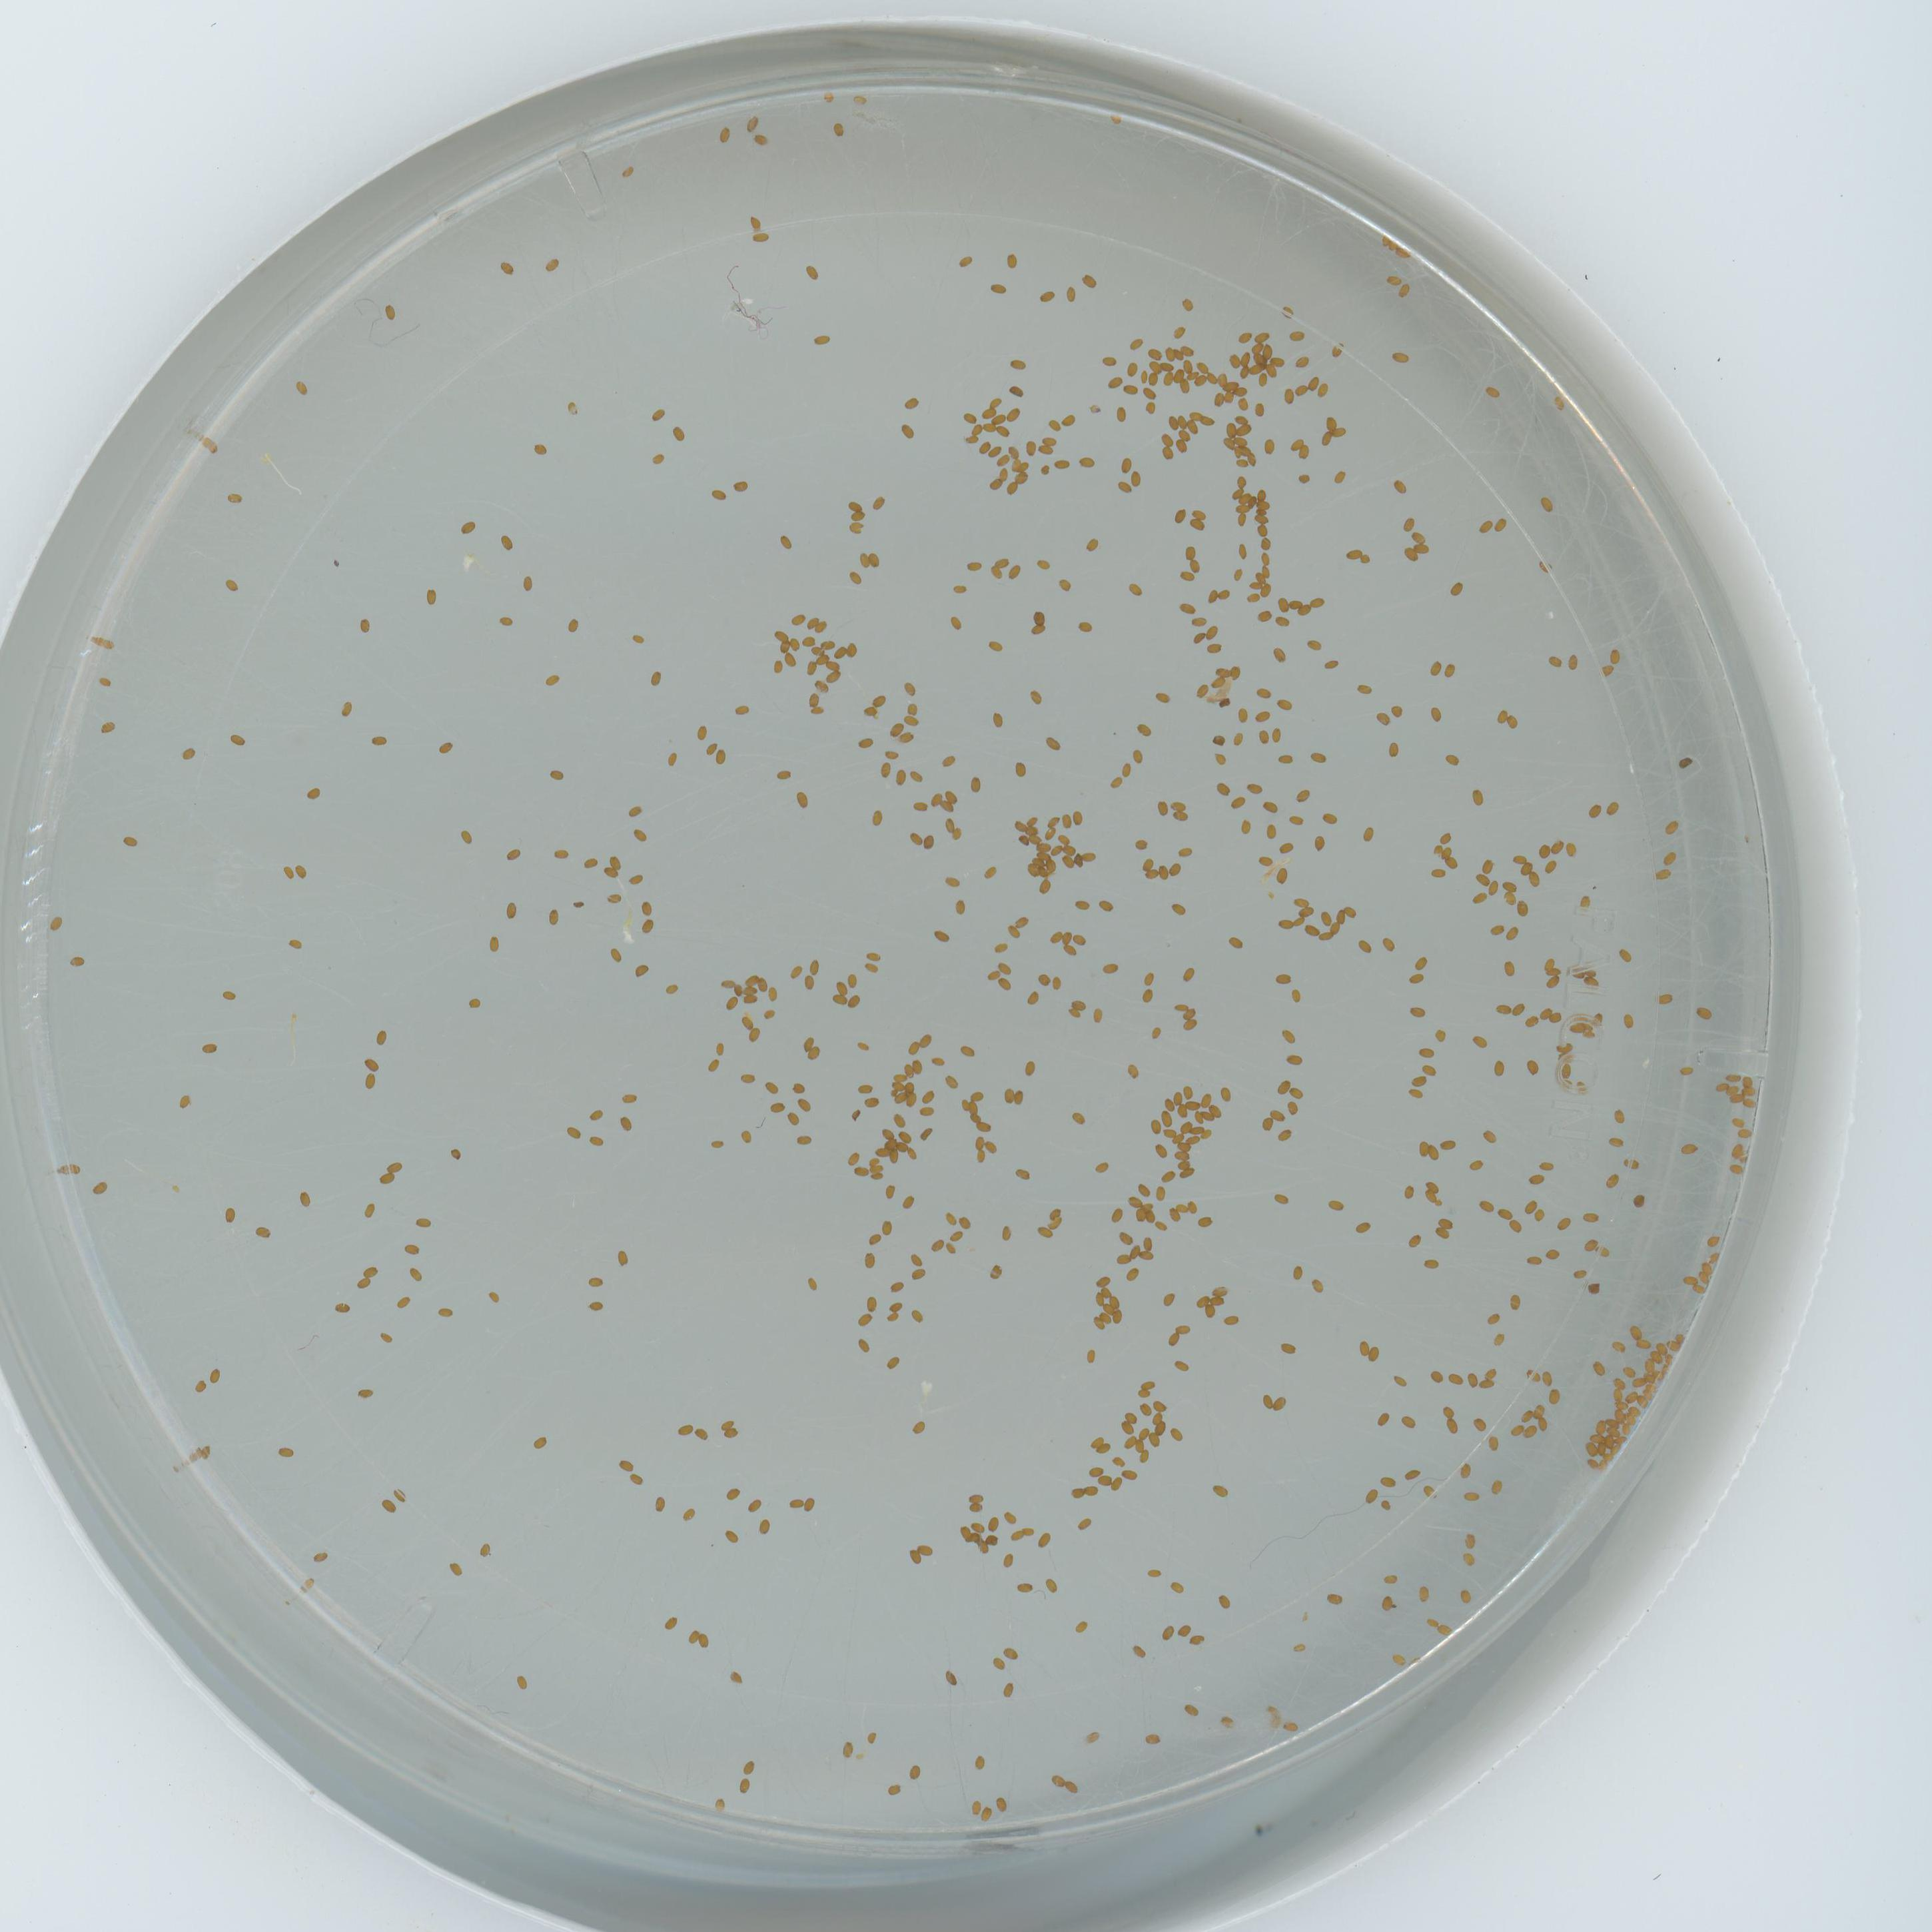seed: (1460, 1552, 1479, 1571), (1483, 384, 1504, 402), (1384, 741, 1403, 759), (1414, 954, 1433, 971), (1362, 1486, 1380, 1506), (1389, 1651, 1407, 1670), (1454, 1589, 1474, 1606), (1460, 1532, 1477, 1552), (1486, 1479, 1506, 1497), (1435, 1622, 1454, 1640), (1290, 1640, 1309, 1658), (1548, 395, 1568, 412), (1177, 600, 1198, 616), (502, 901, 520, 918), (793, 791, 810, 809), (338, 701, 356, 718), (518, 575, 536, 593), (920, 833, 938, 851), (957, 251, 975, 269), (617, 1454, 635, 1472), (205, 1366, 223, 1384), (276, 1442, 294, 1460), (803, 1495, 821, 1513), (379, 1497, 396, 1514), (90, 1177, 108, 1194), (295, 1189, 313, 1207), (1309, 748, 1327, 766), (1111, 405, 1129, 423), (1260, 437, 1277, 455), (1276, 695, 1293, 713), (1042, 734, 1060, 752), (1008, 354, 1026, 372), (1037, 285, 1054, 303), (1391, 347, 1408, 364), (1421, 1060, 1438, 1077), (1378, 1472, 1396, 1490), (1525, 1058, 1543, 1076), (1014, 1162, 1031, 1180), (1490, 1060, 1507, 1077), (1582, 1207, 1599, 1224), (1378, 1594, 1396, 1612), (1500, 959, 1518, 977), (1546, 1387, 1564, 1405), (1414, 1585, 1431, 1603), (1422, 1615, 1440, 1633), (1384, 1571, 1401, 1589), (1729, 1161, 1746, 1178), (1729, 1143, 1746, 1161), (1679, 1062, 1697, 1079), (1591, 1010, 1608, 1028), (1656, 991, 1674, 1008), (954, 1525, 971, 1543), (361, 1056, 380, 1072), (879, 1217, 895, 1237), (253, 1223, 272, 1238), (807, 957, 823, 977), (909, 1306, 925, 1325), (1115, 456, 1134, 472), (998, 1552, 1017, 1568), (1021, 1058, 1037, 1077), (1445, 1369, 1465, 1385), (1085, 1730, 1104, 1746), (1063, 1778, 1083, 1794), (639, 899, 656, 915), (458, 518, 476, 534), (628, 872, 646, 888), (632, 828, 649, 844), (370, 732, 387, 748), (292, 379, 310, 395), (639, 918, 656, 934), (648, 671, 665, 686), (582, 855, 600, 870), (901, 679, 918, 695), (545, 909, 563, 925), (734, 702, 752, 718), (732, 478, 750, 494), (304, 786, 322, 801), (626, 803, 644, 819), (771, 626, 789, 642), (543, 255, 561, 271), (858, 734, 876, 750), (814, 329, 832, 345), (847, 570, 865, 586), (947, 616, 964, 632), (423, 587, 439, 605), (803, 264, 821, 280), (292, 863, 310, 879), (228, 731, 246, 747), (713, 750, 731, 766), (805, 616, 823, 632), (287, 936, 304, 952), (801, 633, 819, 649), (812, 678, 830, 694), (607, 855, 625, 870), (747, 1497, 764, 1513), (886, 1353, 904, 1369), (862, 1251, 879, 1267), (407, 1267, 425, 1283), (918, 1539, 934, 1557), (906, 1764, 924, 1780), (740, 1127, 755, 1145), (724, 1527, 740, 1545), (920, 1088, 936, 1106), (890, 1276, 906, 1293), (757, 1518, 775, 1534), (904, 1039, 922, 1054), (846, 1150, 863, 1166), (333, 1299, 350, 1315), (435, 1302, 453, 1318), (863, 1730, 881, 1746), (221, 1207, 239, 1223), (651, 1495, 669, 1511), (614, 1247, 632, 1263), (770, 1097, 787, 1113), (626, 1470, 644, 1486), (361, 1203, 379, 1219), (892, 1111, 909, 1127), (633, 962, 651, 978), (738, 1776, 754, 1794), (839, 1741, 856, 1757), (1373, 711, 1391, 727), (1254, 607, 1272, 623), (1099, 352, 1116, 368), (1171, 326, 1189, 341), (1095, 897, 1113, 913), (1035, 879, 1053, 895), (1426, 662, 1444, 678), (1007, 382, 1024, 398), (989, 278, 1007, 294), (1077, 453, 1095, 469), (1180, 543, 1198, 559), (1005, 407, 1023, 423), (1224, 934, 1242, 950), (1380, 936, 1398, 952), (1079, 271, 1095, 288), (1322, 656, 1339, 672), (1228, 796, 1246, 812), (1253, 708, 1270, 724), (1514, 901, 1532, 916), (1261, 798, 1277, 816), (1005, 924, 1023, 939), (1359, 826, 1376, 842), (1235, 329, 1253, 345), (1272, 869, 1290, 885), (1244, 780, 1261, 796), (1399, 515, 1417, 531), (966, 777, 984, 793), (1288, 327, 1306, 343), (1106, 372, 1122, 389), (1286, 812, 1304, 828), (1072, 897, 1090, 913), (1208, 674, 1226, 690), (1320, 810, 1338, 826), (1001, 251, 1019, 267), (1237, 817, 1253, 835), (1070, 931, 1088, 947), (1587, 801, 1603, 819), (1270, 646, 1288, 662), (1272, 596, 1290, 612), (1295, 469, 1313, 485), (1293, 787, 1311, 803), (991, 939, 1008, 955), (1327, 343, 1345, 359), (1152, 801, 1169, 817), (1479, 858, 1497, 874), (1200, 412, 1217, 428), (1125, 582, 1143, 598), (1003, 442, 1021, 458), (1028, 609, 1044, 626), (1122, 361, 1139, 377), (1605, 800, 1622, 816), (1401, 545, 1419, 561), (1012, 913, 1030, 929), (1389, 478, 1407, 494), (1152, 690, 1169, 706), (1256, 550, 1272, 568), (1537, 495, 1553, 513), (1417, 1042, 1435, 1058), (1403, 1465, 1421, 1481), (1470, 1031, 1488, 1047), (1438, 1401, 1456, 1417), (1422, 1254, 1440, 1270), (1327, 1196, 1345, 1212), (1108, 1207, 1125, 1223), (1175, 1621, 1192, 1637), (1214, 1592, 1231, 1608), (1470, 1415, 1488, 1431), (1376, 1410, 1392, 1428), (989, 1656, 1007, 1672), (1591, 1361, 1608, 1376), (1408, 1003, 1426, 1019), (1122, 1267, 1139, 1283), (1438, 1134, 1456, 1150), (1288, 1265, 1306, 1281), (1527, 1169, 1545, 1185), (1272, 1191, 1290, 1207), (1033, 1532, 1051, 1548), (1221, 1311, 1238, 1327), (1555, 1214, 1573, 1230), (1016, 1578, 1033, 1594), (1476, 1196, 1493, 1212), (1497, 1203, 1514, 1219), (1171, 1357, 1189, 1373), (1582, 1237, 1599, 1253), (1115, 1228, 1132, 1244), (1399, 1414, 1417, 1430), (1168, 1578, 1185, 1594), (1284, 1049, 1302, 1065), (1506, 1293, 1523, 1309), (1327, 1589, 1343, 1606), (1444, 1417, 1460, 1435), (1092, 1157, 1109, 1173), (985, 1513, 1001, 1530), (1603, 1173, 1621, 1189), (1545, 975, 1562, 991), (1129, 1644, 1146, 1660), (1484, 1311, 1502, 1327), (1198, 1092, 1214, 1109), (1426, 1145, 1442, 1162), (1122, 1408, 1139, 1424), (1587, 1277, 1603, 1295), (996, 959, 1014, 975), (1695, 1003, 1713, 1019), (961, 1042, 977, 1060), (1458, 1460, 1474, 1477), (1681, 1139, 1698, 1155), (1610, 1106, 1628, 1122), (1049, 1771, 1067, 1787), (1594, 1244, 1612, 1260), (1624, 1154, 1640, 1171), (1569, 1021, 1585, 1039), (1661, 851, 1679, 867), (1606, 648, 1624, 663), (1108, 110, 1125, 126), (713, 1798, 731, 1813), (299, 1578, 317, 1594), (65, 1159, 81, 1177), (849, 510, 869, 524), (911, 1058, 925, 1077), (1152, 1184, 1166, 1203), (966, 1500, 985, 1514), (1555, 1039, 1575, 1053), (1281, 1720, 1300, 1734), (934, 925, 950, 941), (711, 487, 727, 502), (548, 768, 564, 784), (671, 425, 686, 441), (533, 441, 548, 456), (885, 745, 901, 761), (908, 832, 924, 847), (499, 258, 515, 274), (356, 617, 372, 633), (821, 637, 837, 653), (566, 617, 582, 633), (382, 304, 398, 320), (770, 658, 786, 674), (499, 534, 515, 550), (651, 405, 667, 421), (223, 577, 239, 593), (847, 497, 863, 513), (120, 833, 136, 849), (487, 936, 502, 952), (609, 947, 625, 962), (870, 810, 886, 826), (846, 642, 862, 658), (497, 612, 513, 628), (458, 828, 474, 844), (778, 534, 794, 550), (748, 214, 764, 230), (904, 395, 920, 410), (651, 451, 667, 467), (872, 692, 888, 708), (180, 745, 196, 761), (663, 750, 679, 766), (807, 690, 823, 706), (225, 488, 241, 504), (867, 947, 883, 962), (849, 520, 865, 536), (939, 754, 955, 770), (832, 120, 847, 136), (941, 817, 957, 833), (725, 1484, 741, 1500), (724, 994, 740, 1010), (901, 1192, 916, 1208), (191, 1378, 207, 1394), (908, 1548, 924, 1564), (663, 1615, 679, 1631), (865, 1093, 881, 1109), (918, 1125, 934, 1141), (533, 1433, 548, 1449), (869, 1230, 885, 1246), (391, 1486, 407, 1502), (786, 1109, 801, 1125), (589, 1297, 605, 1313), (720, 1415, 736, 1431), (909, 1251, 925, 1267), (478, 1541, 494, 1557), (886, 1780, 902, 1796), (416, 1214, 432, 1230), (945, 1074, 961, 1090), (617, 1116, 633, 1132), (948, 1228, 964, 1244), (706, 1054, 722, 1070), (448, 1560, 464, 1576), (219, 985, 235, 1001), (931, 1051, 947, 1067), (858, 1311, 874, 1327), (373, 1030, 389, 1046), (796, 1131, 812, 1146), (764, 1077, 780, 1093), (858, 1077, 874, 1093), (741, 1759, 757, 1775), (920, 1031, 936, 1047), (796, 1095, 812, 1111), (379, 1327, 395, 1343), (741, 1069, 757, 1085), (911, 1419, 927, 1435), (709, 1134, 725, 1150), (513, 1674, 529, 1690), (395, 1293, 410, 1309), (621, 1088, 637, 1104), (883, 1182, 899, 1198), (663, 980, 679, 996), (943, 1670, 959, 1686), (681, 1506, 697, 1522), (589, 1131, 605, 1146), (941, 1208, 957, 1224), (485, 1288, 501, 1304), (761, 1005, 777, 1021), (879, 1125, 895, 1141), (311, 1548, 327, 1564), (1233, 543, 1249, 559), (1256, 685, 1272, 701), (1007, 564, 1023, 580), (1253, 402, 1269, 418), (1345, 545, 1361, 561), (1129, 748, 1145, 764), (1053, 455, 1069, 471), (1136, 724, 1152, 740), (1003, 479, 1019, 495), (1256, 853, 1272, 869), (1171, 508, 1187, 524), (1355, 681, 1371, 697), (1486, 879, 1502, 895), (1177, 844, 1192, 860), (1254, 327, 1270, 343), (1437, 830, 1453, 846), (987, 637, 1003, 653), (1449, 580, 1465, 596), (987, 476, 1003, 492), (1306, 637, 1322, 653), (1230, 566, 1246, 582), (1214, 780, 1230, 796), (1311, 835, 1327, 851), (1274, 614, 1290, 630), (1277, 842, 1293, 858), (1430, 867, 1445, 883), (989, 713, 1005, 729), (1470, 791, 1486, 807), (1566, 655, 1582, 671), (1132, 835, 1148, 851), (1012, 761, 1028, 777), (1157, 430, 1173, 446), (1476, 518, 1491, 534), (1269, 727, 1284, 743), (1168, 863, 1184, 879), (1230, 731, 1246, 747), (1062, 285, 1077, 301), (1076, 617, 1092, 633), (1316, 911, 1332, 927), (1253, 729, 1269, 745), (1026, 688, 1042, 704), (1295, 444, 1311, 460), (1207, 640, 1223, 656), (1279, 389, 1295, 405), (1493, 517, 1509, 533), (1108, 775, 1123, 791), (1534, 842, 1550, 858), (1169, 901, 1185, 916), (1178, 297, 1194, 313), (1070, 810, 1086, 826), (1428, 842, 1444, 858), (1083, 849, 1099, 865), (1212, 752, 1228, 768), (1254, 373, 1270, 389), (1341, 902, 1357, 918), (1430, 1368, 1445, 1384), (1279, 1339, 1295, 1355), (1288, 987, 1304, 1003), (1495, 1000, 1511, 1016), (1196, 1212, 1212, 1228), (1125, 1063, 1141, 1079), (1001, 1509, 1017, 1525), (1274, 1394, 1290, 1410), (1069, 1108, 1085, 1123), (1258, 1392, 1274, 1408), (1523, 1012, 1539, 1028), (1072, 1619, 1088, 1635), (1212, 1483, 1228, 1499), (1468, 1155, 1484, 1171), (1152, 1141, 1168, 1157), (1509, 1422, 1525, 1438), (1573, 1265, 1589, 1281), (1161, 1290, 1177, 1306), (1507, 1217, 1523, 1233), (1621, 1012, 1637, 1028), (1093, 1272, 1109, 1288), (1139, 987, 1155, 1003), (1260, 1115, 1276, 1131), (1407, 1231, 1422, 1247), (1274, 1079, 1290, 1095), (1150, 1398, 1166, 1414), (1522, 1198, 1537, 1214), (1481, 1129, 1497, 1145), (1136, 1180, 1152, 1196), (1146, 1023, 1162, 1039), (1276, 1125, 1292, 1141), (1000, 1681, 1016, 1697), (1465, 1371, 1481, 1387), (1281, 1028, 1297, 1044), (1180, 1016, 1196, 1031), (998, 1224, 1014, 1240), (1490, 1330, 1506, 1346), (1145, 1730, 1161, 1746), (1621, 1362, 1637, 1378), (970, 1516, 985, 1532), (1486, 1435, 1502, 1451), (1159, 1111, 1175, 1127), (1541, 1369, 1557, 1385), (1483, 1364, 1499, 1380), (994, 1794, 1010, 1810), (1185, 1198, 1201, 1214), (1631, 1191, 1647, 1207), (1608, 1132, 1624, 1148), (1463, 1488, 1479, 1504), (1178, 1118, 1194, 1134), (1221, 1714, 1237, 1730), (1525, 1368, 1541, 1384), (1557, 1063, 1573, 1079), (1573, 1079, 1589, 1095), (1568, 964, 1583, 980), (1654, 867, 1670, 883), (1665, 819, 1681, 835), (1677, 754, 1693, 770), (1599, 663, 1615, 679), (1537, 557, 1553, 573), (1387, 272, 1403, 288), (980, 1806, 996, 1822), (1139, 1449, 1155, 1465), (1263, 363, 1279, 379), (564, 402, 580, 418), (621, 165, 637, 180), (821, 90, 837, 106), (853, 92, 869, 108), (48, 915, 64, 931), (899, 423, 916, 437), (694, 725, 711, 740), (543, 672, 561, 686), (605, 892, 623, 906), (878, 764, 895, 778), (587, 1272, 605, 1286), (909, 1267, 927, 1281), (747, 1028, 764, 1042), (446, 1145, 464, 1159), (787, 1495, 805, 1509), (741, 994, 759, 1008), (200, 1037, 218, 1051), (1191, 614, 1208, 628), (1408, 529, 1426, 543), (1543, 862, 1560, 876), (1122, 382, 1139, 396), (1060, 412, 1077, 426), (1293, 895, 1311, 909), (1322, 416, 1339, 430), (1470, 892, 1488, 906), (1474, 874, 1491, 888), (1444, 858, 1461, 872), (1292, 354, 1309, 368), (1330, 469, 1348, 483), (1033, 557, 1051, 571), (1083, 538, 1100, 552), (1233, 396, 1251, 410), (1127, 336, 1145, 350), (1246, 591, 1263, 605), (1046, 929, 1063, 943), (1509, 853, 1527, 867), (1276, 754, 1293, 768), (994, 423, 1012, 437), (994, 467, 1012, 481), (962, 407, 977, 425), (1261, 824, 1279, 839), (1258, 536, 1272, 554), (1286, 596, 1304, 610), (1525, 874, 1543, 888), (1274, 971, 1292, 985), (1168, 1428, 1185, 1442), (1161, 1624, 1175, 1642), (1353, 1219, 1371, 1233), (1037, 1224, 1054, 1238), (1410, 1074, 1428, 1088), (1083, 1350, 1100, 1364), (1525, 1253, 1543, 1267), (1164, 1332, 1182, 1346), (1437, 1214, 1454, 1228), (975, 1120, 993, 1134), (1419, 1483, 1437, 1497), (1116, 1421, 1134, 1435), (1407, 1085, 1424, 1099), (987, 1263, 1001, 1281), (1283, 1100, 1300, 1115), (1178, 1166, 1196, 1180), (1422, 1189, 1440, 1203), (1269, 1702, 1283, 1720), (1730, 1115, 1748, 1129), (1031, 623, 1049, 637), (869, 550, 881, 570), (1129, 469, 1141, 488), (1003, 1086, 1016, 1106), (1582, 977, 1601, 989), (1100, 962, 1120, 975), (909, 770, 924, 786), (69, 954, 85, 968), (888, 724, 904, 738), (784, 655, 800, 669), (803, 662, 819, 676), (872, 495, 888, 510), (929, 793, 945, 807), (280, 865, 294, 881), (554, 847, 570, 862), (791, 612, 807, 626), (506, 847, 522, 862), (754, 230, 770, 244), (904, 701, 920, 715), (777, 768, 793, 782), (913, 800, 929, 814), (437, 741, 453, 755), (704, 740, 718, 755), (745, 117, 761, 131), (863, 706, 879, 720), (952, 899, 966, 915), (718, 127, 734, 142), (632, 632, 648, 646), (99, 720, 113, 736), (97, 674, 111, 690), (858, 552, 872, 568), (816, 621, 832, 635), (775, 640, 791, 655), (929, 1238, 945, 1253), (589, 1106, 605, 1120), (361, 1074, 377, 1088), (403, 1240, 419, 1254), (356, 1276, 372, 1290), (386, 1157, 402, 1171), (856, 1338, 872, 1352), (566, 1125, 582, 1139), (694, 1426, 709, 1440), (379, 1171, 395, 1185), (363, 1263, 379, 1277), (865, 1295, 881, 1309), (678, 1421, 694, 1435), (175, 1092, 191, 1106), (713, 1039, 727, 1054), (791, 1079, 807, 1093), (685, 1629, 699, 1645), (789, 966, 805, 980), (801, 975, 817, 989), (697, 1635, 713, 1649), (888, 1299, 904, 1313), (945, 1242, 961, 1256), (740, 1016, 755, 1030), (807, 1276, 821, 1292), (847, 993, 863, 1007), (754, 977, 770, 991), (357, 1384, 372, 1399), (729, 1670, 745, 1684), (856, 1037, 872, 1051), (957, 1215, 973, 1230), (1309, 594, 1325, 609), (1210, 732, 1226, 747), (1217, 586, 1231, 602), (1139, 386, 1155, 400), (1548, 653, 1562, 669), (1444, 663, 1460, 678), (1194, 683, 1210, 697), (1502, 879, 1518, 893), (1189, 632, 1205, 646), (1205, 625, 1219, 640), (1224, 354, 1240, 368), (1178, 570, 1194, 584), (1552, 839, 1566, 855), (994, 554, 1010, 568), (1157, 446, 1173, 460), (1299, 906, 1315, 920), (1118, 763, 1134, 777), (1490, 922, 1506, 936), (1054, 577, 1070, 591), (1014, 469, 1030, 483), (1116, 479, 1132, 494), (1235, 708, 1251, 722), (1228, 663, 1242, 679), (1201, 589, 1217, 603), (1355, 938, 1371, 952), (987, 395, 1003, 409), (1444, 752, 1460, 766), (1428, 708, 1444, 722), (1332, 426, 1348, 441), (1617, 948, 1633, 962), (1493, 709, 1509, 724), (1293, 382, 1309, 396), (1506, 715, 1522, 729), (1143, 869, 1159, 883), (1187, 559, 1203, 573), (1044, 418, 1060, 432), (1146, 345, 1162, 359), (1162, 345, 1177, 361), (1014, 833, 1030, 847), (1316, 432, 1332, 446), (1171, 798, 1187, 812), (1288, 437, 1304, 451), (1566, 842, 1580, 858), (987, 564, 1003, 579), (1357, 552, 1373, 566), (1062, 941, 1077, 955), (1502, 892, 1518, 906), (977, 442, 993, 456), (1194, 373, 1208, 389), (1332, 909, 1348, 924), (1187, 405, 1203, 419), (1208, 391, 1223, 407), (1253, 524, 1269, 538), (982, 865, 998, 879), (1398, 283, 1414, 297), (1237, 421, 1253, 435), (1408, 971, 1424, 985), (1001, 1645, 1017, 1660), (1309, 1279, 1325, 1293), (1042, 1578, 1058, 1592), (1159, 1168, 1175, 1182), (1122, 1467, 1138, 1481), (1217, 1085, 1231, 1100), (1431, 1026, 1447, 1040), (1047, 1207, 1063, 1221), (1424, 1178, 1440, 1192), (1545, 1246, 1560, 1260), (984, 1139, 1000, 1154), (968, 1490, 984, 1504), (1109, 1453, 1125, 1467), (1537, 1157, 1553, 1171), (1511, 1003, 1527, 1017), (1401, 1184, 1417, 1198), (1136, 1401, 1152, 1415), (1391, 1373, 1407, 1387), (1120, 1437, 1136, 1451), (1187, 1633, 1203, 1647), (1175, 1320, 1191, 1334), (1288, 1085, 1304, 1099), (1180, 968, 1196, 982), (1049, 975, 1063, 991), (1145, 1566, 1161, 1580), (1067, 1486, 1083, 1500), (971, 1755, 987, 1769), (984, 1532, 1000, 1546), (1136, 1387, 1152, 1401), (1208, 1102, 1223, 1118), (1184, 1700, 1198, 1716), (1532, 1207, 1548, 1221), (1479, 1376, 1495, 1391), (1201, 1304, 1217, 1318), (1270, 1108, 1286, 1122), (1139, 971, 1155, 985), (1182, 1005, 1198, 1019), (1161, 1097, 1177, 1111), (1138, 1249, 1154, 1263), (1523, 1424, 1539, 1438), (1173, 998, 1189, 1012), (1378, 1497, 1392, 1513), (1161, 1125, 1177, 1139), (1723, 1069, 1739, 1083), (970, 1799, 984, 1815), (1435, 1226, 1451, 1240), (1536, 1417, 1552, 1431), (1612, 1338, 1628, 1352), (1008, 1527, 1024, 1541), (1612, 1375, 1628, 1389), (1624, 1412, 1638, 1428), (1624, 1389, 1638, 1405), (1631, 1375, 1647, 1389), (1651, 1368, 1667, 1382), (1649, 1350, 1665, 1364), (1654, 1341, 1668, 1357), (1691, 1283, 1707, 1297), (1697, 1270, 1713, 1284), (1741, 1072, 1755, 1088), (1578, 895, 1594, 909), (1281, 304, 1295, 320), (1396, 246, 1412, 260), (1021, 1523, 1037, 1537), (1090, 1316, 1106, 1330), (1067, 1007, 1083, 1021), (1062, 929, 1076, 945), (863, 962, 879, 977), (752, 133, 768, 147), (101, 637, 117, 651), (824, 660, 842, 672), (950, 582, 968, 594), (809, 704, 826, 717), (899, 732, 916, 745), (853, 1164, 870, 1177), (1024, 439, 1037, 456), (1302, 924, 1320, 936), (1187, 518, 1205, 531), (1191, 508, 1208, 520), (1037, 444, 1054, 456), (1414, 543, 1431, 556), (1276, 916, 1293, 929), (1157, 361, 1175, 373), (1042, 823, 1054, 840), (1086, 1465, 1104, 1477), (1083, 1484, 1100, 1497), (1148, 1116, 1161, 1134), (1070, 998, 1088, 1010), (1212, 1286, 1230, 1299), (1417, 1139, 1430, 1157), (1152, 1217, 1169, 1230), (1665, 1339, 1683, 1352), (1736, 1127, 1753, 1139), (1155, 1419, 1168, 1437), (1247, 363, 1265, 375), (202, 1444, 214, 1461), (1092, 1444, 1111, 1454), (1681, 1274, 1700, 1284), (1173, 1150, 1192, 1161), (904, 715, 918, 729), (895, 771, 909, 786), (943, 789, 957, 803), (947, 876, 961, 890), (789, 637, 803, 651), (847, 971, 862, 985), (467, 994, 481, 1008), (904, 1079, 918, 1093), (722, 977, 736, 991), (766, 987, 780, 1001), (801, 1037, 816, 1051), (849, 1106, 863, 1120), (833, 982, 847, 996), (809, 1046, 823, 1060), (904, 1146, 918, 1161), (1143, 402, 1157, 416), (968, 559, 982, 573), (1012, 819, 1026, 833), (1182, 343, 1196, 357), (1389, 704, 1403, 718), (1506, 925, 1520, 939), (1196, 357, 1210, 372), (1260, 345, 1274, 359), (1306, 377, 1320, 391), (1046, 814, 1060, 828), (1162, 414, 1177, 428), (996, 453, 1010, 467), (1238, 364, 1253, 379), (1139, 858, 1154, 872), (993, 412, 1007, 426), (1024, 814, 1039, 828), (1161, 372, 1175, 386), (1233, 474, 1247, 488), (1155, 865, 1169, 879), (1230, 487, 1244, 501), (1063, 842, 1077, 856), (1060, 814, 1074, 828), (1238, 352, 1253, 366), (1177, 428, 1191, 442), (982, 405, 996, 419), (1035, 973, 1049, 987), (1109, 1477, 1123, 1491), (1355, 1341, 1369, 1355), (970, 1086, 984, 1100), (1026, 991, 1040, 1005), (1077, 1516, 1092, 1530), (1182, 1085, 1196, 1099), (1368, 1346, 1382, 1361), (1109, 1309, 1123, 1323), (1520, 1408, 1534, 1422), (1136, 1426, 1150, 1440), (1168, 1207, 1182, 1221), (1185, 1097, 1200, 1111), (1537, 1007, 1552, 1021), (1583, 1442, 1598, 1456), (1674, 1330, 1688, 1345), (1743, 1097, 1757, 1111), (1293, 915, 1307, 929), (1099, 1311, 1113, 1325), (1254, 571, 1269, 586), (1223, 437, 1237, 451), (603, 867, 619, 879), (826, 672, 842, 685), (920, 1104, 936, 1116), (832, 993, 847, 1005), (724, 1428, 740, 1440), (874, 1145, 890, 1157), (1226, 421, 1238, 437), (1270, 354, 1286, 366), (1171, 441, 1187, 453), (1215, 665, 1231, 678), (1233, 386, 1249, 398), (1315, 384, 1330, 396), (1233, 456, 1249, 469), (1171, 810, 1187, 823), (1233, 513, 1249, 525), (1040, 433, 1056, 446), (1182, 359, 1194, 375), (1233, 435, 1249, 448), (1054, 832, 1070, 844), (1318, 931, 1334, 943), (1187, 419, 1200, 435), (1139, 1237, 1155, 1249), (1115, 1253, 1131, 1265), (1548, 1010, 1564, 1023), (1129, 1244, 1141, 1260), (1092, 1007, 1104, 1023), (996, 978, 1012, 991), (1097, 1474, 1113, 1486), (1139, 1376, 1155, 1389), (1635, 1338, 1651, 1350), (1184, 1132, 1200, 1145), (1093, 1292, 1106, 1307), (1014, 1090, 1026, 1106), (1175, 1104, 1191, 1116), (1589, 1433, 1605, 1445), (1606, 1426, 1622, 1438), (1612, 1387, 1624, 1403), (1615, 1399, 1631, 1412), (1637, 1394, 1649, 1410), (1628, 1327, 1644, 1339), (1644, 1357, 1656, 1373), (1707, 1233, 1720, 1249), (1330, 920, 1343, 936), (1210, 1295, 1226, 1307), (1047, 1217, 1063, 1230), (1145, 1208, 1157, 1224), (1201, 1109, 1217, 1122), (1024, 824, 1040, 837), (1037, 842, 1053, 855), (1031, 856, 1047, 869), (1046, 858, 1058, 874), (1173, 368, 1185, 384), (1253, 352, 1269, 364), (893, 1092, 909, 1104), (869, 1171, 886, 1182), (1088, 1435, 1106, 1445), (1727, 1093, 1744, 1104), (1074, 851, 1085, 869), (1217, 372, 1228, 389), (1221, 380, 1238, 391), (741, 987, 759, 998), (892, 1074, 909, 1085), (810, 646, 824, 658), (941, 801, 955, 814), (833, 646, 847, 658), (950, 826, 964, 839), (899, 1129, 913, 1141), (888, 1150, 902, 1162), (745, 975, 759, 987), (1037, 464, 1051, 476), (1260, 584, 1274, 596), (1254, 488, 1269, 501), (1205, 370, 1217, 384), (1177, 414, 1189, 428), (971, 423, 985, 435), (1223, 391, 1235, 405), (989, 446, 1003, 458), (968, 1100, 980, 1115), (1171, 1090, 1184, 1104), (1196, 1295, 1210, 1307), (1146, 1433, 1161, 1445), (1127, 1196, 1141, 1208), (973, 1136, 985, 1150), (1131, 1210, 1145, 1223), (973, 1150, 987, 1162), (1139, 1201, 1154, 1214), (1592, 1421, 1605, 1435), (1610, 1440, 1622, 1454), (1605, 1435, 1617, 1449), (1605, 1417, 1619, 1430), (1621, 1422, 1633, 1437), (1614, 1408, 1626, 1422), (1628, 1405, 1642, 1417), (1644, 1387, 1656, 1401), (1645, 1382, 1660, 1394), (1644, 1371, 1658, 1384), (1702, 1261, 1714, 1276), (1709, 1251, 1721, 1265), (1583, 1030, 1598, 1042), (1714, 1081, 1729, 1093), (1725, 1085, 1739, 1097), (1442, 846, 1454, 860), (971, 1530, 984, 1545), (1134, 1438, 1146, 1453), (1109, 1295, 1122, 1309), (1100, 1286, 1113, 1300), (1102, 1302, 1116, 1315), (1177, 1159, 1191, 1171), (1028, 863, 1040, 878), (1039, 865, 1051, 879), (1062, 855, 1074, 869), (1256, 499, 1270, 511), (1173, 347, 1185, 361), (1251, 341, 1265, 354), (883, 1139, 897, 1152), (906, 1092, 918, 1106), (1180, 379, 1191, 395), (982, 421, 998, 432), (1295, 605, 1311, 616), (1246, 451, 1256, 467), (1261, 564, 1272, 580), (1520, 863, 1536, 874), (966, 435, 982, 446), (1596, 1440, 1606, 1456), (1614, 1435, 1629, 1445), (1583, 966, 1599, 977), (1152, 1412, 1162, 1428), (1177, 1141, 1192, 1152), (1191, 1125, 1207, 1136), (1028, 833, 1044, 844), (1037, 851, 1053, 862), (869, 1164, 885, 1175), (902, 1063, 913, 1079), (890, 1083, 906, 1093), (1545, 968, 1562, 977), (977, 1541, 989, 1553), (1587, 1458, 1599, 1470), (1598, 1460, 1610, 1472), (1665, 1353, 1677, 1366), (1051, 844, 1063, 856), (1019, 462, 1031, 474), (734, 982, 745, 996), (895, 1141, 909, 1152), (1247, 580, 1261, 591), (1139, 370, 1150, 384), (1254, 513, 1269, 524), (1235, 504, 1249, 515), (987, 970, 1001, 980), (1378, 234, 1389, 248), (1387, 237, 1398, 251), (1171, 1134, 1185, 1145), (1194, 1109, 1205, 1123), (970, 1113, 984, 1123), (1238, 494, 1253, 504), (1012, 458, 1023, 472), (1238, 446, 1253, 456), (816, 655, 830, 665), (1233, 414, 1249, 423), (1148, 361, 1161, 372), (1201, 1129, 1214, 1139), (1603, 1453, 1615, 1463), (1177, 1201, 1187, 1214), (959, 1099, 970, 1111), (1249, 495, 1258, 510), (1185, 370, 1200, 379), (1233, 446, 1242, 460), (885, 1313, 899, 1322), (867, 1157, 881, 1166), (1254, 510, 1269, 517)
